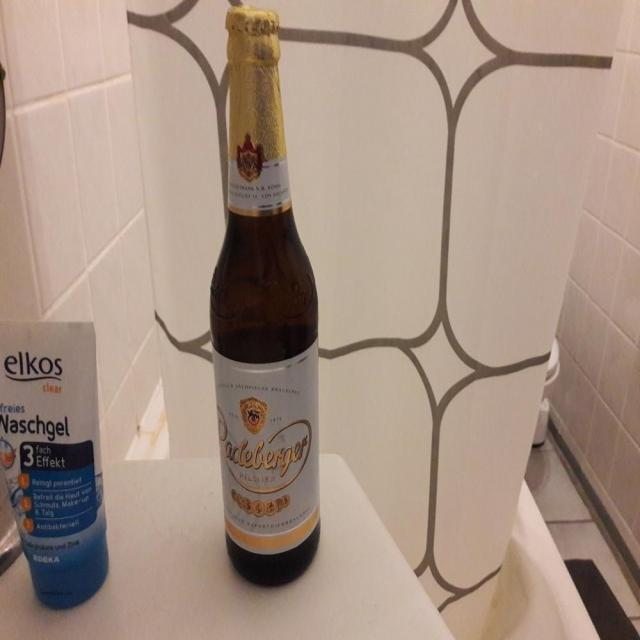bottle-glass: (208, 5, 321, 589)
